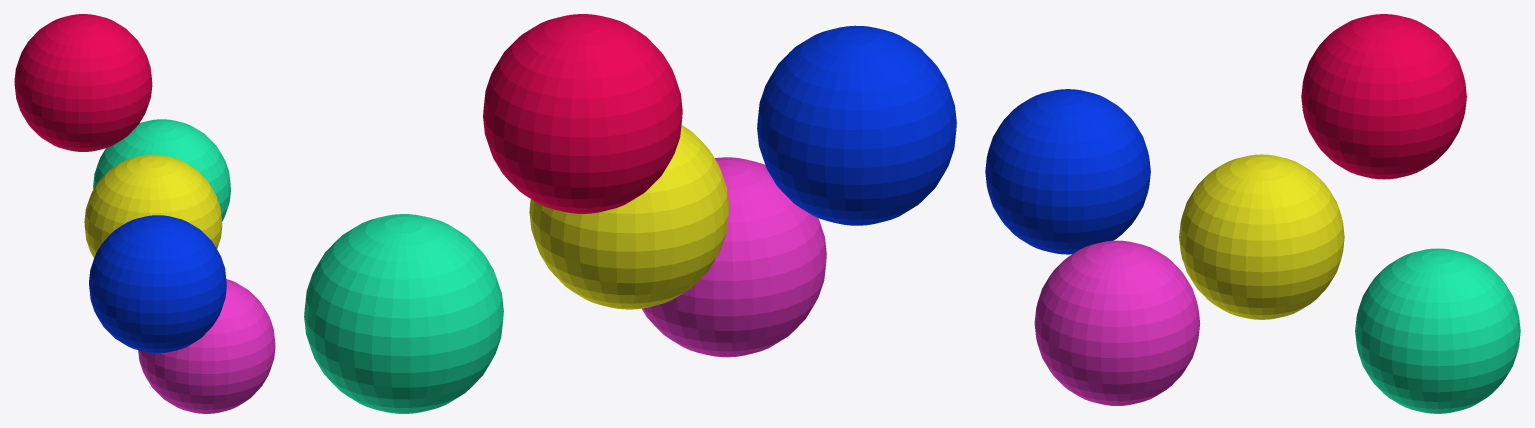
The picture shows the model from 3 angles, left to right: view 1: azimuth 30°, elevation 25°; view 2: azimuth 150°, elevation 25°; view 3: azimuth 270°, elevation 25°; orthographic projection. The views are drawn at different scales.
Visible parts, largest first — view 1: Sphere.001, Sphere.003, Sphere.002, Sphere, Sphere.004; view 2: Sphere.004, Sphere.001, Sphere.003, Sphere, Sphere.002; view 3: Sphere.003, Sphere.004, Sphere, Sphere.002, Sphere.001.
Boxes of the visible parts, x1=… form: Sphere.001: x1=89, y1=215, x2=226, y2=353; Sphere.003: x1=14, y1=14, x2=152, y2=151; Sphere.002: x1=138, y1=279, x2=275, y2=413; Sphere: x1=84, y1=154, x2=222, y2=257; Sphere.004: x1=93, y1=119, x2=230, y2=221; Sphere.004: x1=304, y1=214, x2=503, y2=413; Sphere.001: x1=757, y1=25, x2=956, y2=225; Sphere.003: x1=483, y1=14, x2=682, y2=213; Sphere: x1=529, y1=125, x2=729, y2=309; Sphere.002: x1=642, y1=157, x2=826, y2=357; Sphere.003: x1=1301, y1=14, x2=1466, y2=179; Sphere.004: x1=1355, y1=248, x2=1520, y2=413; Sphere: x1=1179, y1=154, x2=1344, y2=319; Sphere.002: x1=1034, y1=240, x2=1200, y2=405; Sphere.001: x1=985, y1=89, x2=1150, y2=254.
Bounding box in the file's own units: 4.65 × 4.93 × 6.46.
